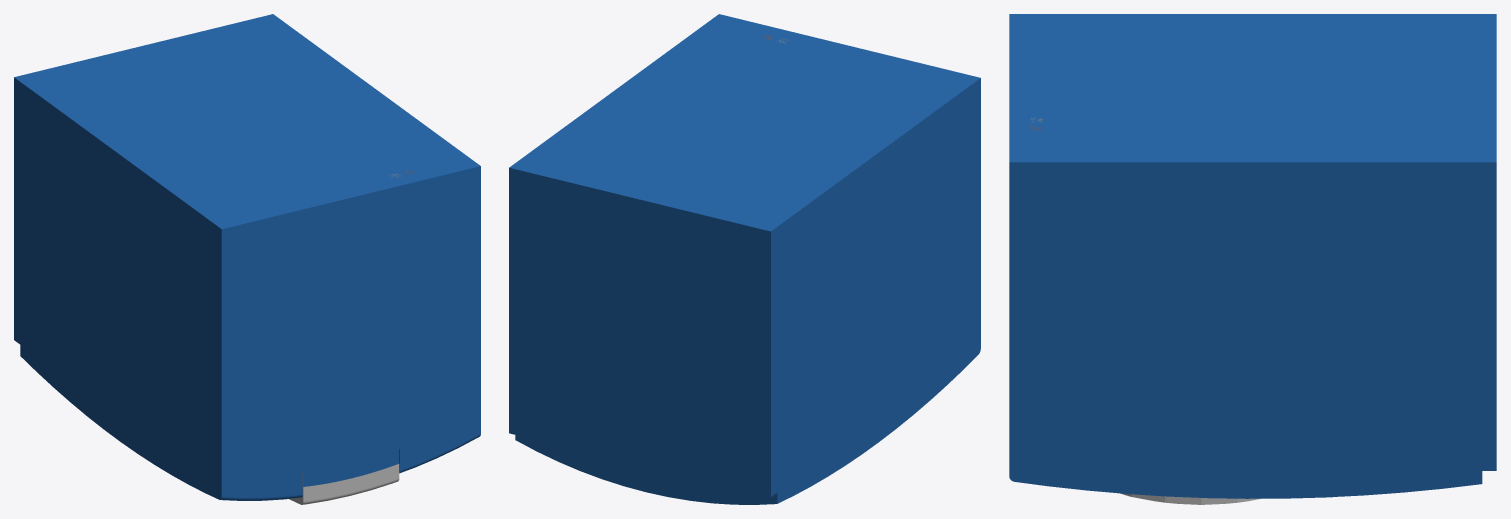
3 views of the same model, side by side, from view 1: azimuth 30°, elevation 25°; view 2: azimuth 150°, elevation 25°; view 3: azimuth 270°, elevation 25° (orthographic). The views are drawn at different scales.
Visible parts, largest first — view 1: kenmore elite he t; view 2: kenmore elite he t; view 3: kenmore elite he t.
Boxes of the visible parts, x1,y1,x2,y2 form: kenmore elite he t: (14,14,480,504); kenmore elite he t: (509,14,980,504); kenmore elite he t: (1009,14,1496,504).
Size of the model in its own units: 27 by 31.15 by 37.5.
